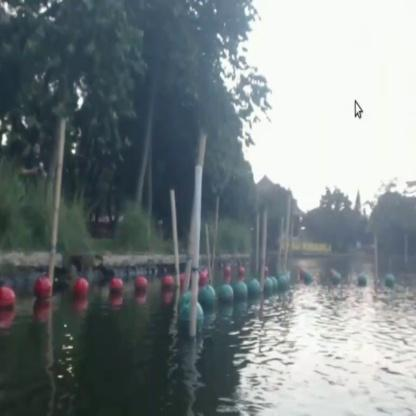green_buoy: (200, 284, 214, 312), (180, 293, 190, 331), (250, 275, 262, 300), (196, 305, 205, 336), (223, 285, 233, 306), (236, 282, 246, 300), (356, 272, 367, 288), (269, 274, 278, 292), (386, 272, 396, 288), (336, 274, 342, 288), (306, 272, 310, 282)
red_buoy: (1, 286, 15, 320), (133, 275, 147, 299), (108, 278, 124, 299), (72, 278, 86, 302), (164, 272, 174, 286), (299, 265, 305, 282), (223, 267, 230, 280), (238, 265, 245, 277)
